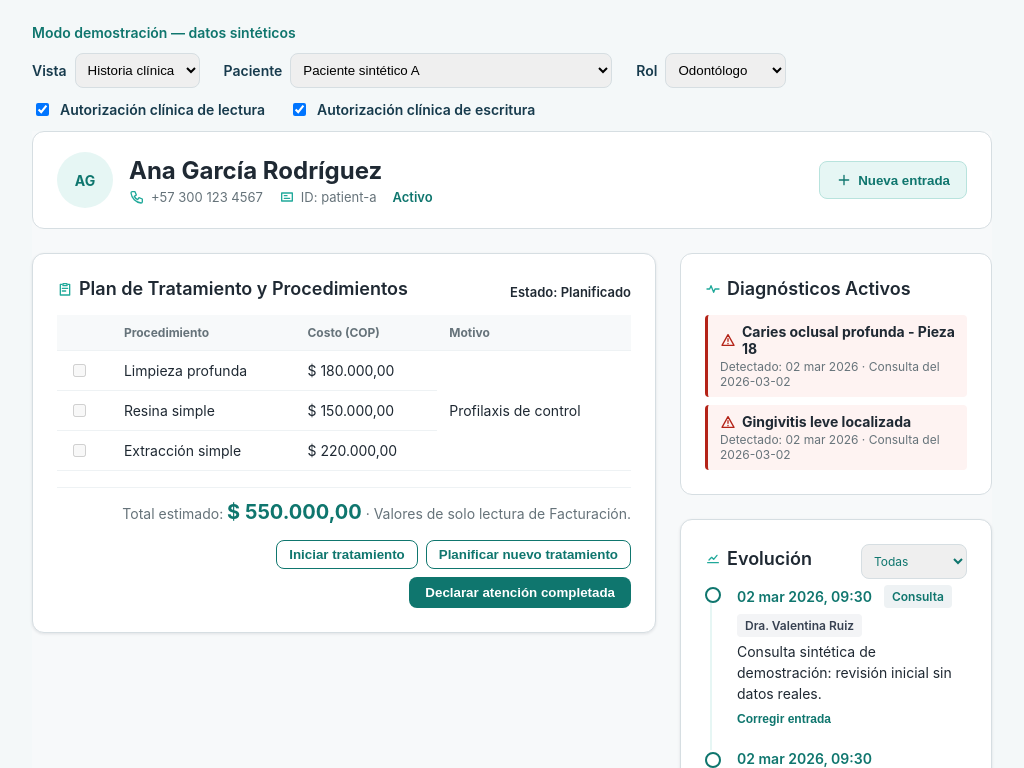
Scenario: ClinicalPortalComposition › shows no pending pricing list when no extras were recorded
Expected: the cell "Limpieza profunda" is shown, [112,350,296,390]
Click the button "Iniciar tratamiento" at (347, 554), box [276,540,418,569]
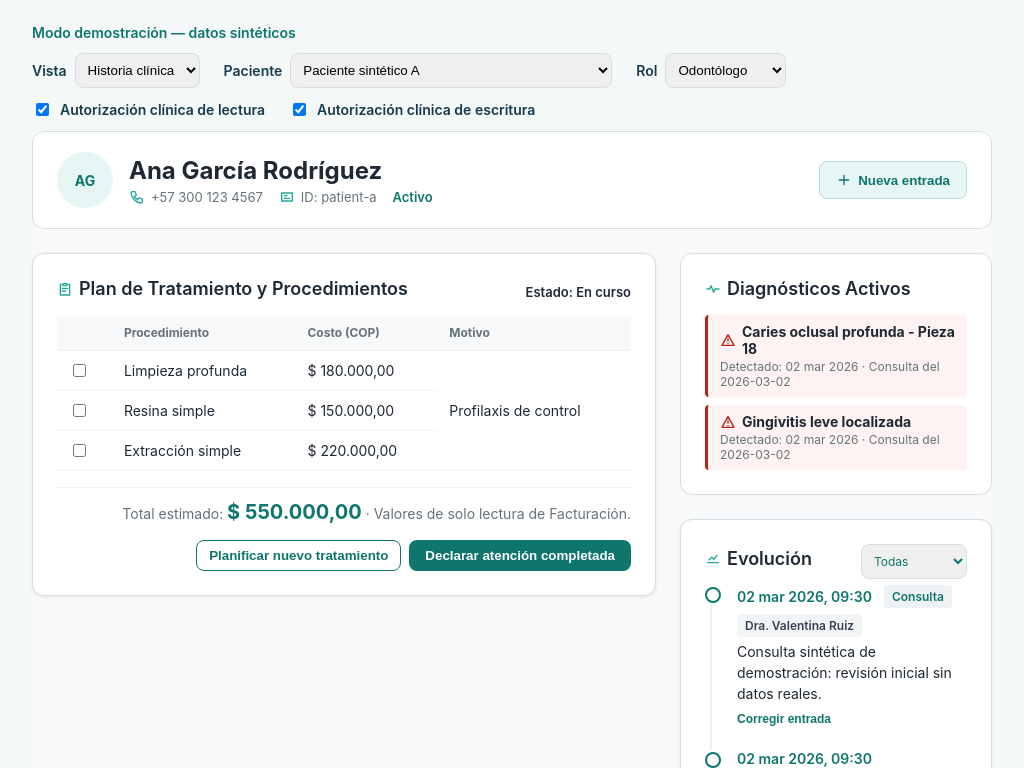
Click the checkbox named "Completar Limpieza profunda" at (80, 370), box [73,364,86,377]
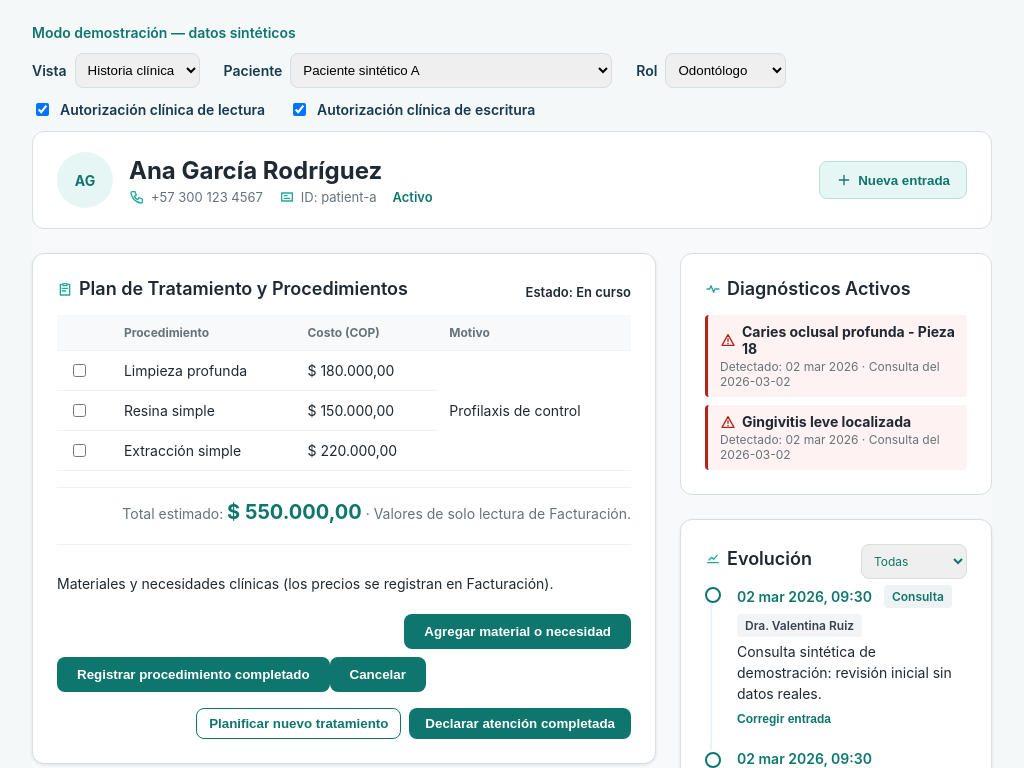
Click the button "Registrar procedimiento completado" at (193, 674), box [57,657,330,692]
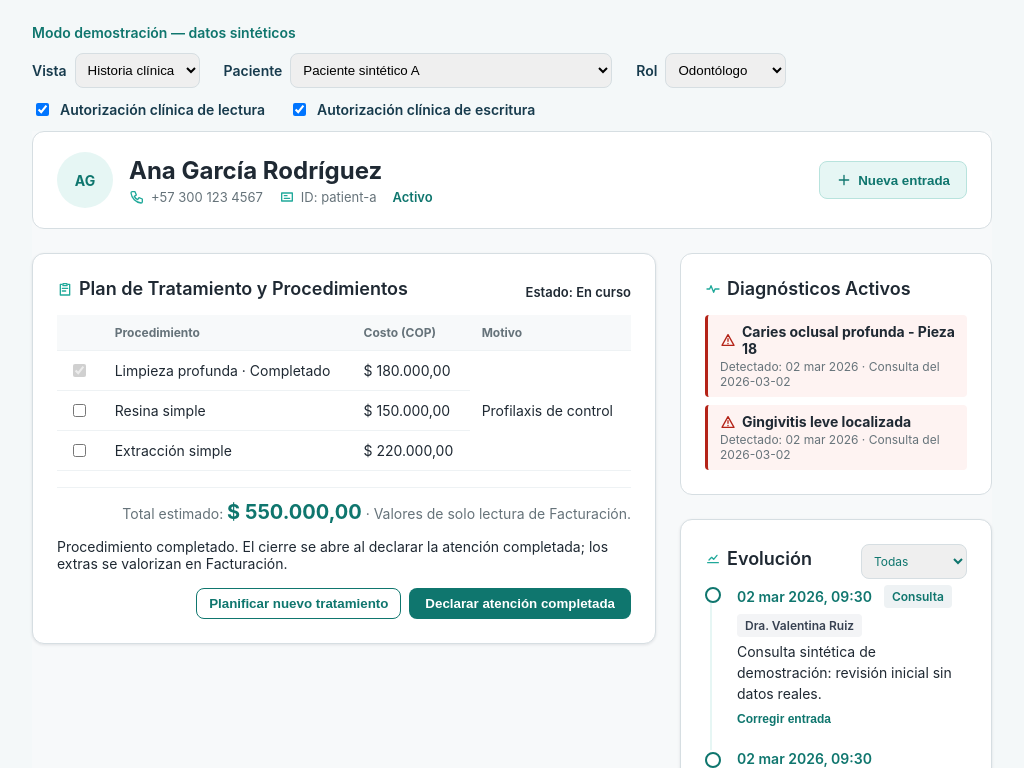
Expected: the text "Procedimiento completado" is shown, [57,538,608,572]
